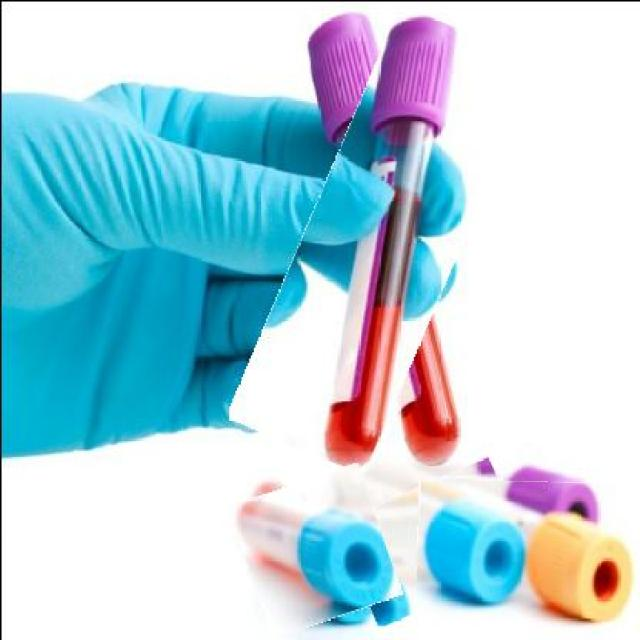Experimental-tube: (266, 8, 497, 467), (414, 477, 632, 617), (340, 470, 525, 612), (237, 470, 392, 628)
